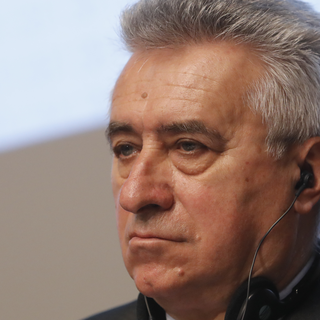eye: (165, 134, 212, 159), (108, 136, 146, 164)
